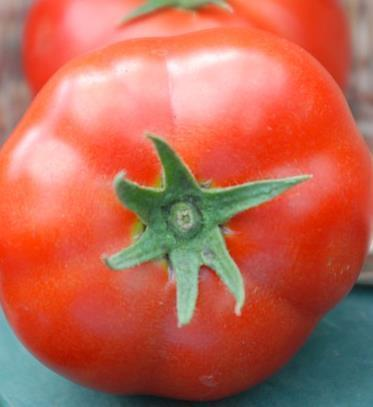tomato: (1, 27, 373, 399)
